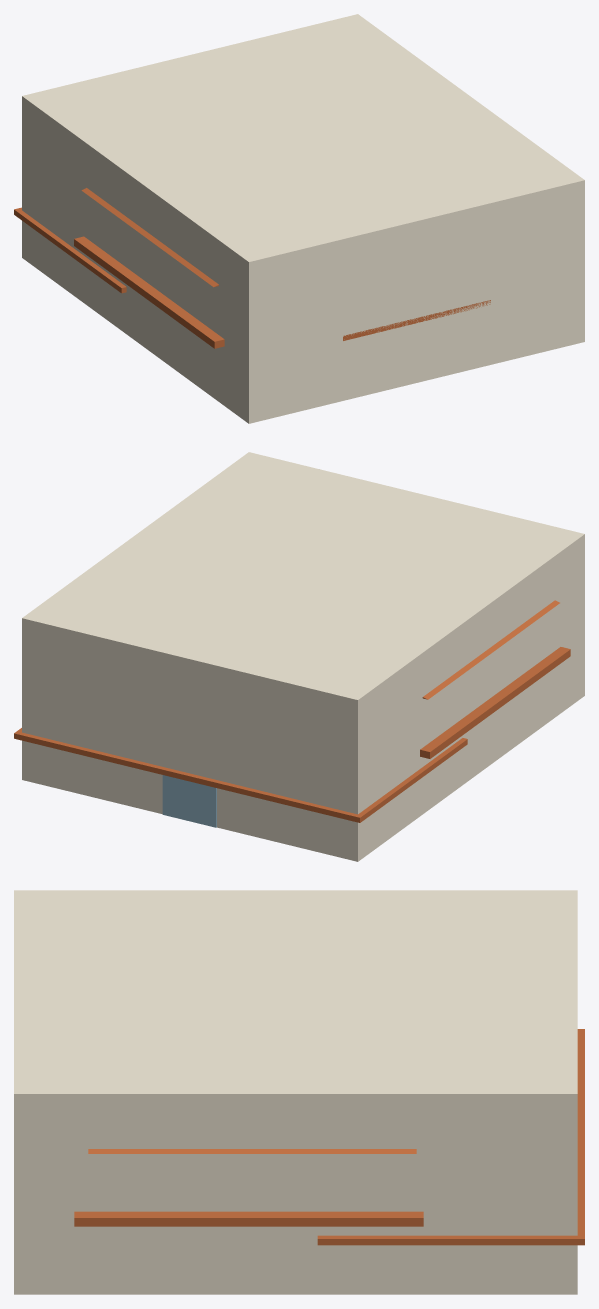
File: BLD_Villa.fbx
3 renders of one model, top to bottom at view 1: azimuth 30°, elevation 25°; view 2: azimuth 150°, elevation 25°; view 3: azimuth 270°, elevation 25°, orthographic. The views are drawn at different scales.
Parts seen in each view (by area): view 1: BLD_Villa__COL_Main, BLD_Villa__BODY; view 2: BLD_Villa__COL_Main, BLD_Villa__BODY; view 3: BLD_Villa__COL_Main, BLD_Villa__BODY.
Part boxes in pixels (left/top/right/bottom): BLD_Villa__COL_Main: left=22, top=14, right=584, bottom=423; BLD_Villa__BODY: left=14, top=188, right=490, bottom=399; BLD_Villa__COL_Main: left=22, top=452, right=584, bottom=861; BLD_Villa__BODY: left=14, top=600, right=570, bottom=861; BLD_Villa__COL_Main: left=14, top=890, right=577, bottom=1294; BLD_Villa__BODY: left=74, top=1029, right=584, bottom=1294.
Bounding box in the file's own units: 21.2 × 9.2 × 23.7.
